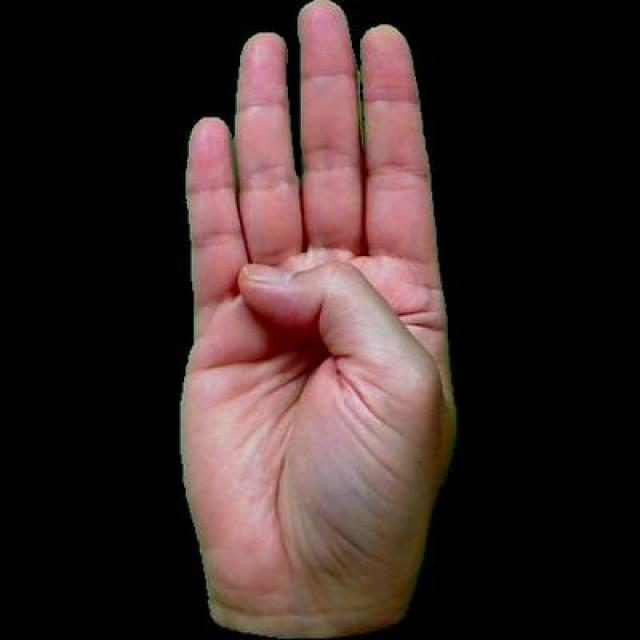b: (173, 0, 459, 637)
